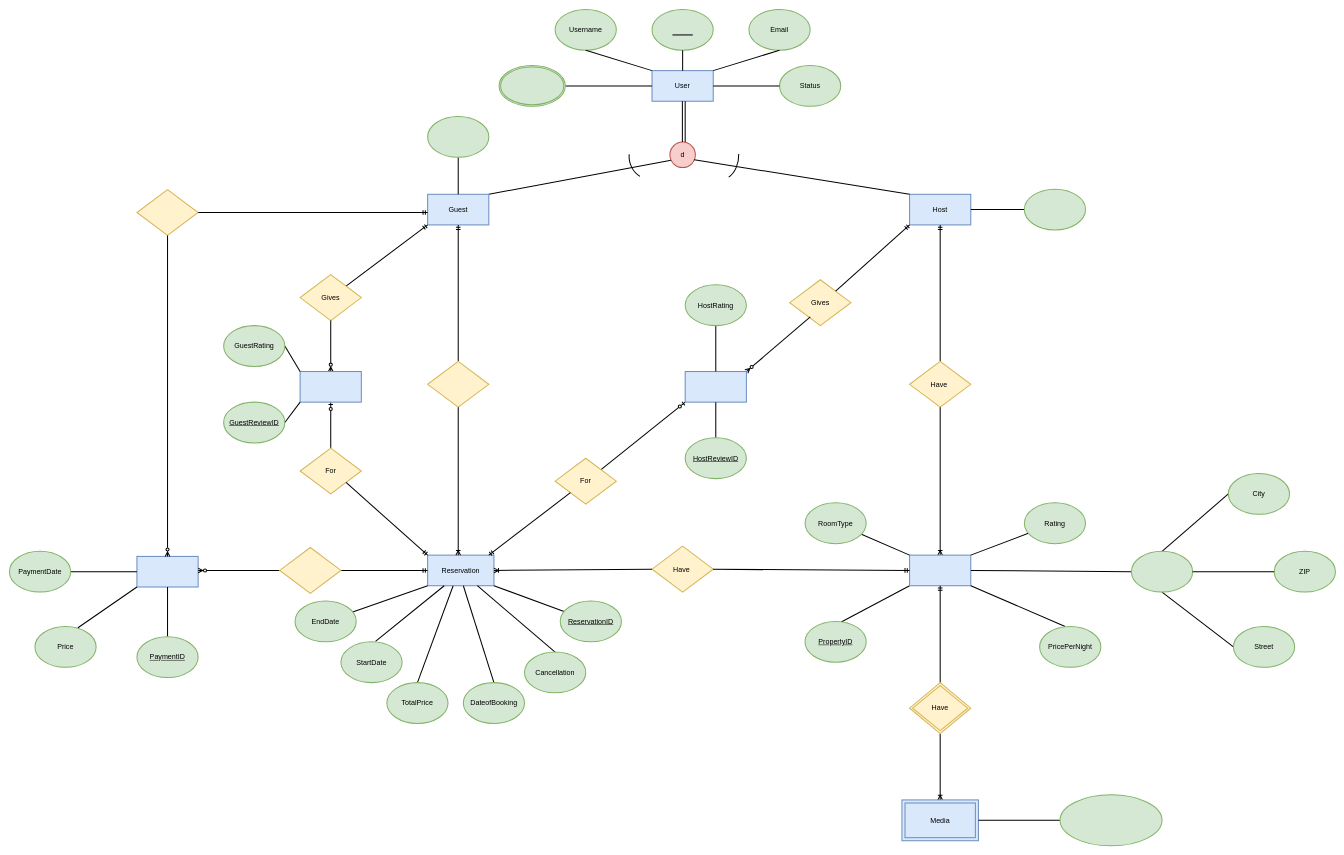
Image size: 1344x855. Some labels were removed from this diagram. Each missing label, with the centre of its shape:
Address: (x=1162, y=571)
Book: (x=458, y=384)
GuestReviews: (x=330, y=386)
Has: (x=310, y=570)
HostReviews: (x=715, y=386)
LoyaltyPoints: (x=458, y=137)
Makes: (x=167, y=212)
MediaURL: (x=1110, y=820)
Payments: (x=167, y=571)
PhoneNumbers: (x=532, y=86)
Property: (x=940, y=570)
SuperHostStatus: (x=1055, y=209)
UserID: (x=682, y=29)
